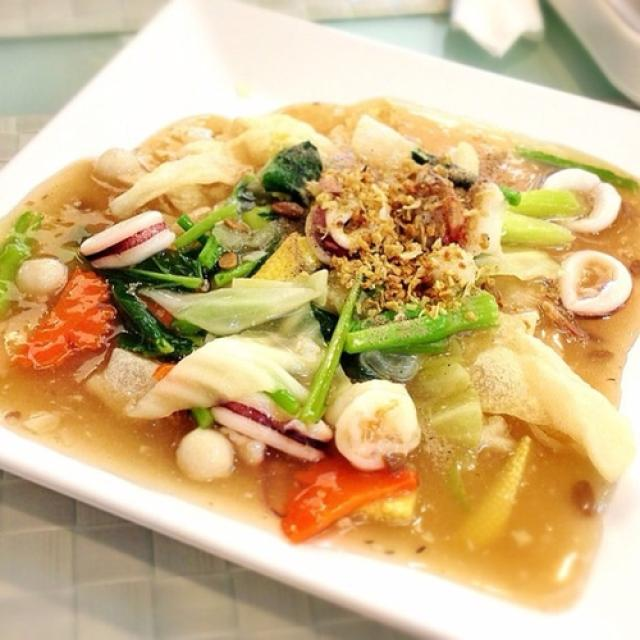面条主食: (4, 8, 634, 618)
